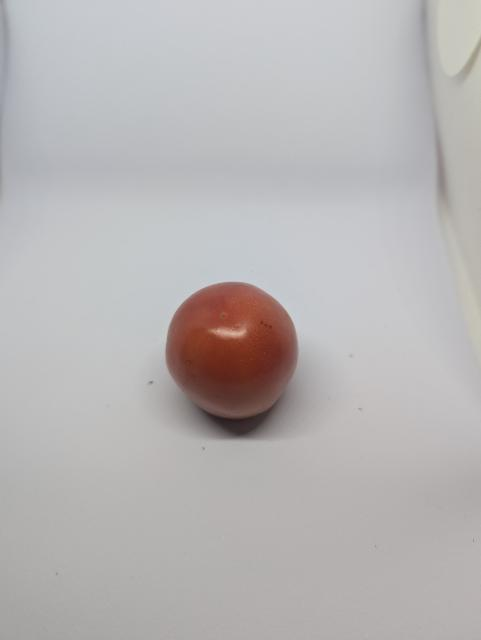red: (157, 271, 304, 435)
